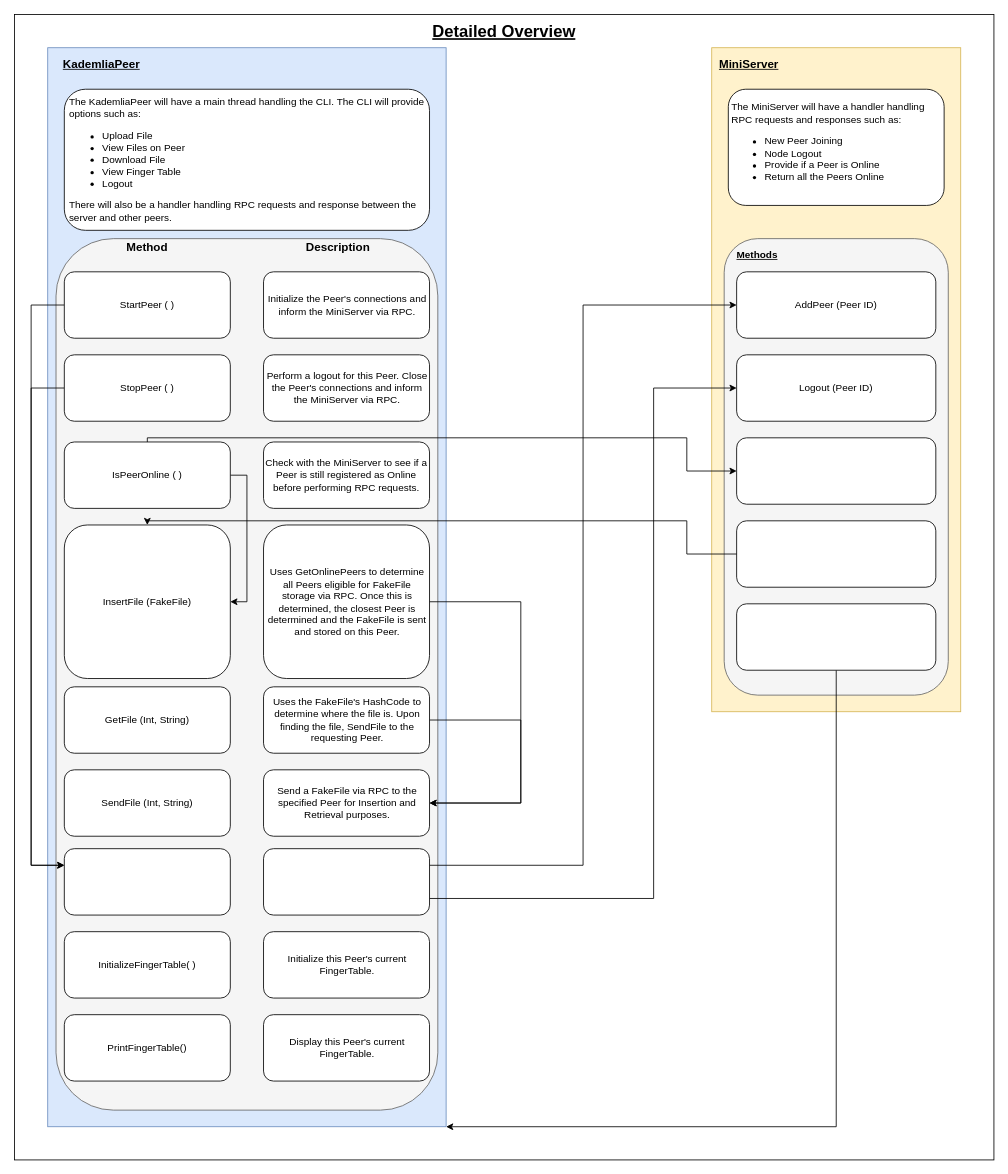
Image size: 1008x1174. Some labels were removed from this diagram. The box of each missing label's shape, as (x1, y1, x2, y2) in pixels:
GetOnlinePeers (Requesting Peer ID): (736, 520, 936, 587)
InformAnchorNodes (New Peer ID): (736, 603, 936, 670)
IsPeerOnline (Peer ID): (736, 437, 936, 504)
Notify the MiniServer via RPC of a particular Peer going Online/Offline: (263, 848, 430, 915)
TellMiniServer (Status): (63, 848, 230, 915)
